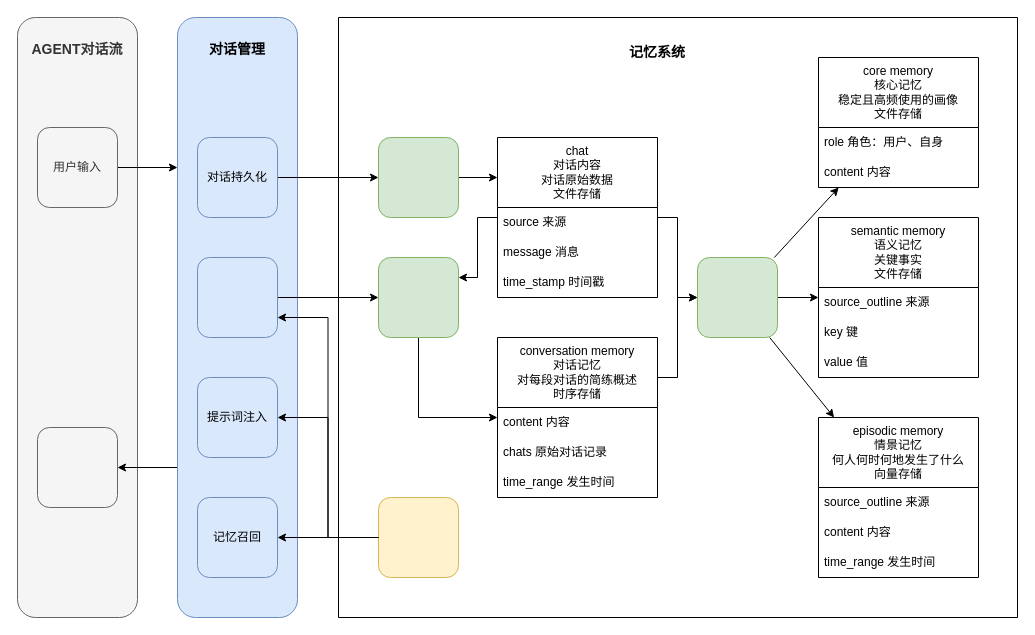
This 1035x635 diagram has some shape labels left out. Each missing label, with the centre of its shape:
"上下文管控" goes at point 237,297.
"对话列表" goes at point 77,467.
"记忆构建 初始写入" goes at point 418,177.
"记忆构建 总结概述" goes at point 418,297.
"记忆构建 提取抽象" goes at point 737,297.
"记忆检索" goes at point 418,537.
